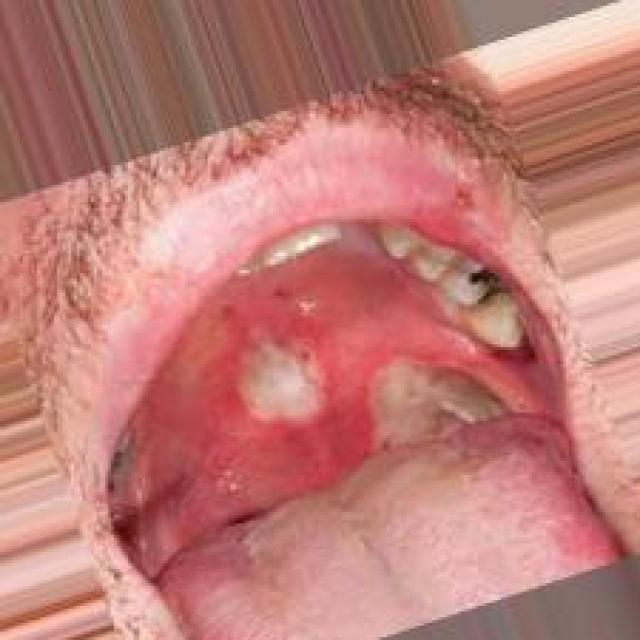caries: (456, 253, 511, 320)
